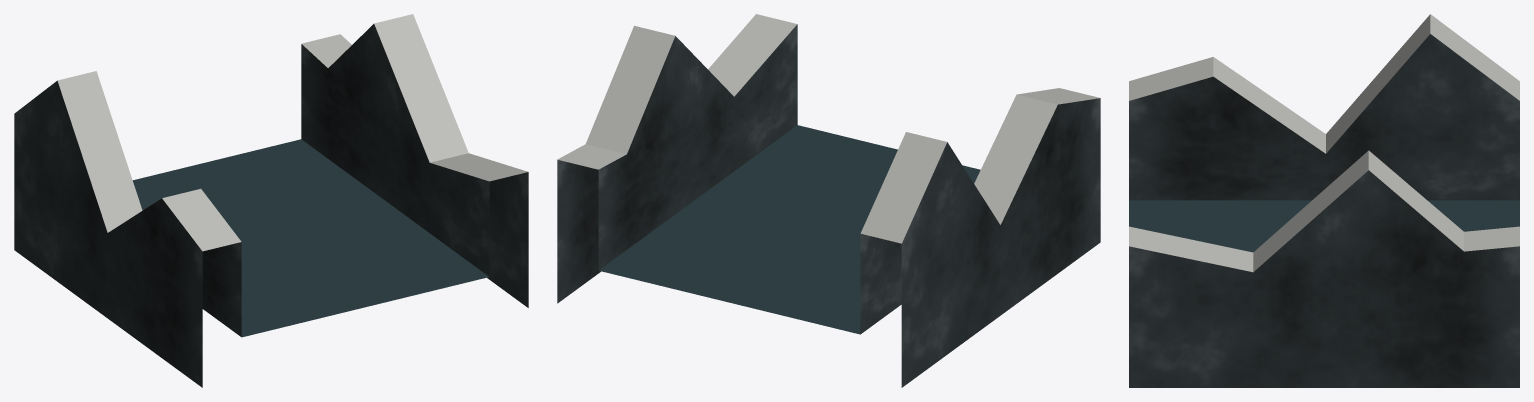
The model's file is OT_146_147_broken_wall_small_deco.glb.
3 renders of one model, left to right at view 1: azimuth 30°, elevation 25°; view 2: azimuth 150°, elevation 25°; view 3: azimuth 270°, elevation 25°, orthographic. The views are drawn at different scales.
Parts seen in each view (by area): view 1: broken_wall; view 2: broken_wall; view 3: broken_wall.
Part boxes in pixels (x1,y1,x2,y2): broken_wall: (14, 14, 528, 387); broken_wall: (557, 14, 1100, 387); broken_wall: (1129, 14, 1519, 387).
Size of the model in its own units: 0.75 by 0.4613 by 0.75.
Materials: 3 (1 with a texture image).
